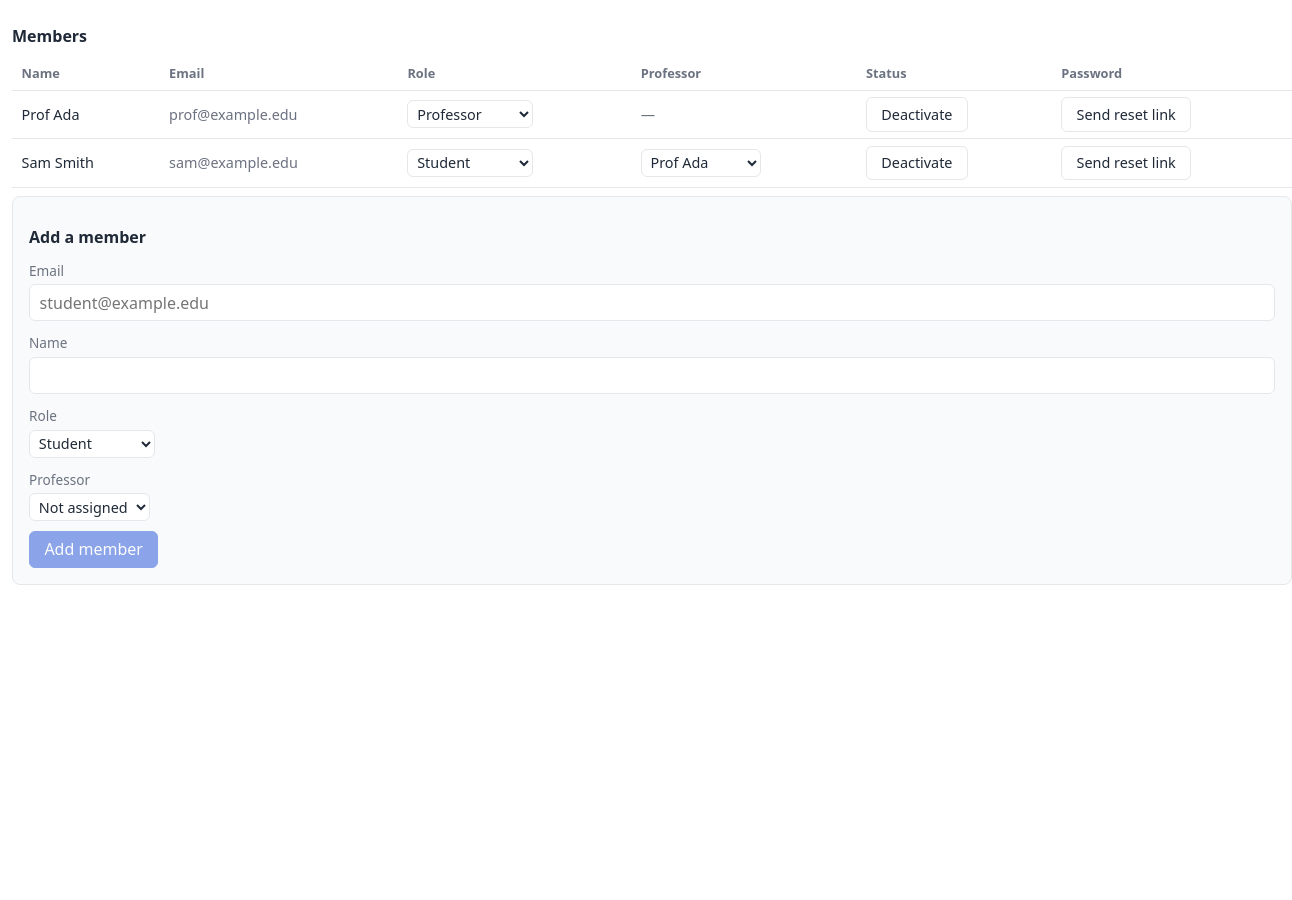
Test case: /org/:id — the members table › adds a member by email, name, role and professor — and says the mail went out
Expected: the text "prof@example.edu" is shown, x1=160 y1=90 x2=398 y2=139
Type "new@example.edu" into the field labelled "Email".
click(652, 303); type("new@example.edu")  # box x1=29 y1=284 x2=1275 y2=322
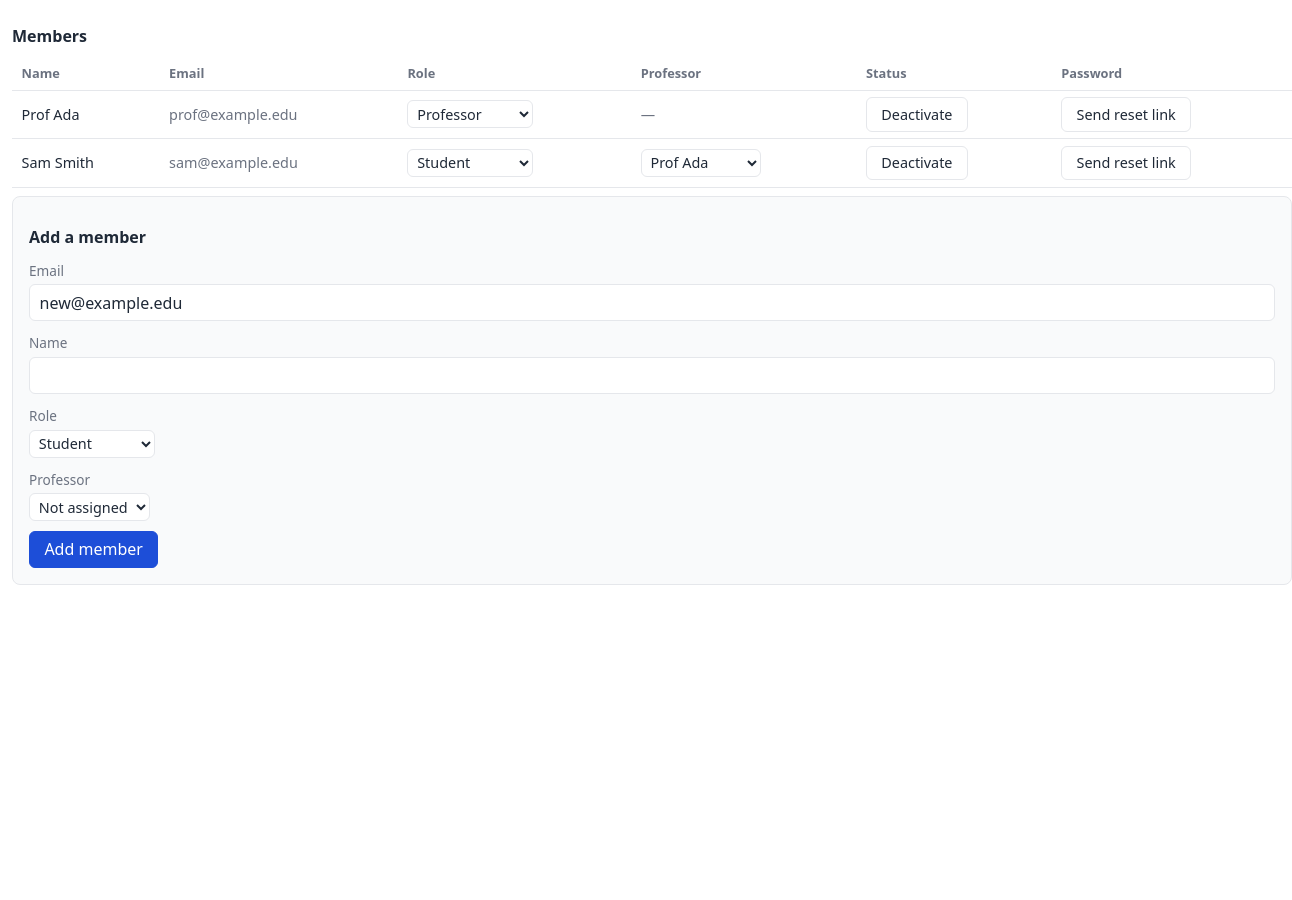
Type "Newcomer" into the field labelled "Name".
click(652, 376); type("Newcomer")  # box x1=29 y1=357 x2=1275 y2=394
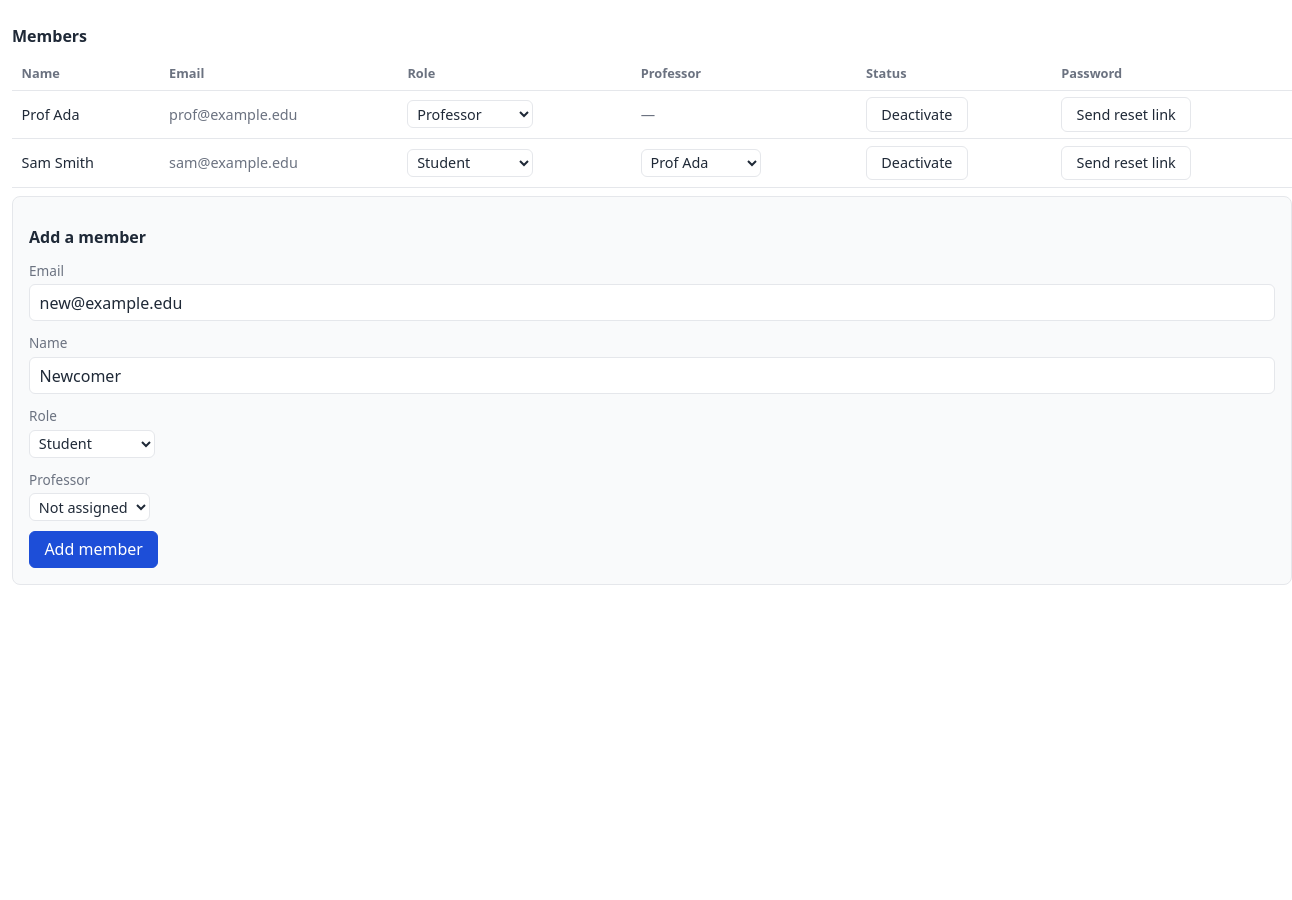
Select "Prof Ada" in the dropdown labelled "Professor" at (89, 507), box x1=29 y1=493 x2=150 y2=521
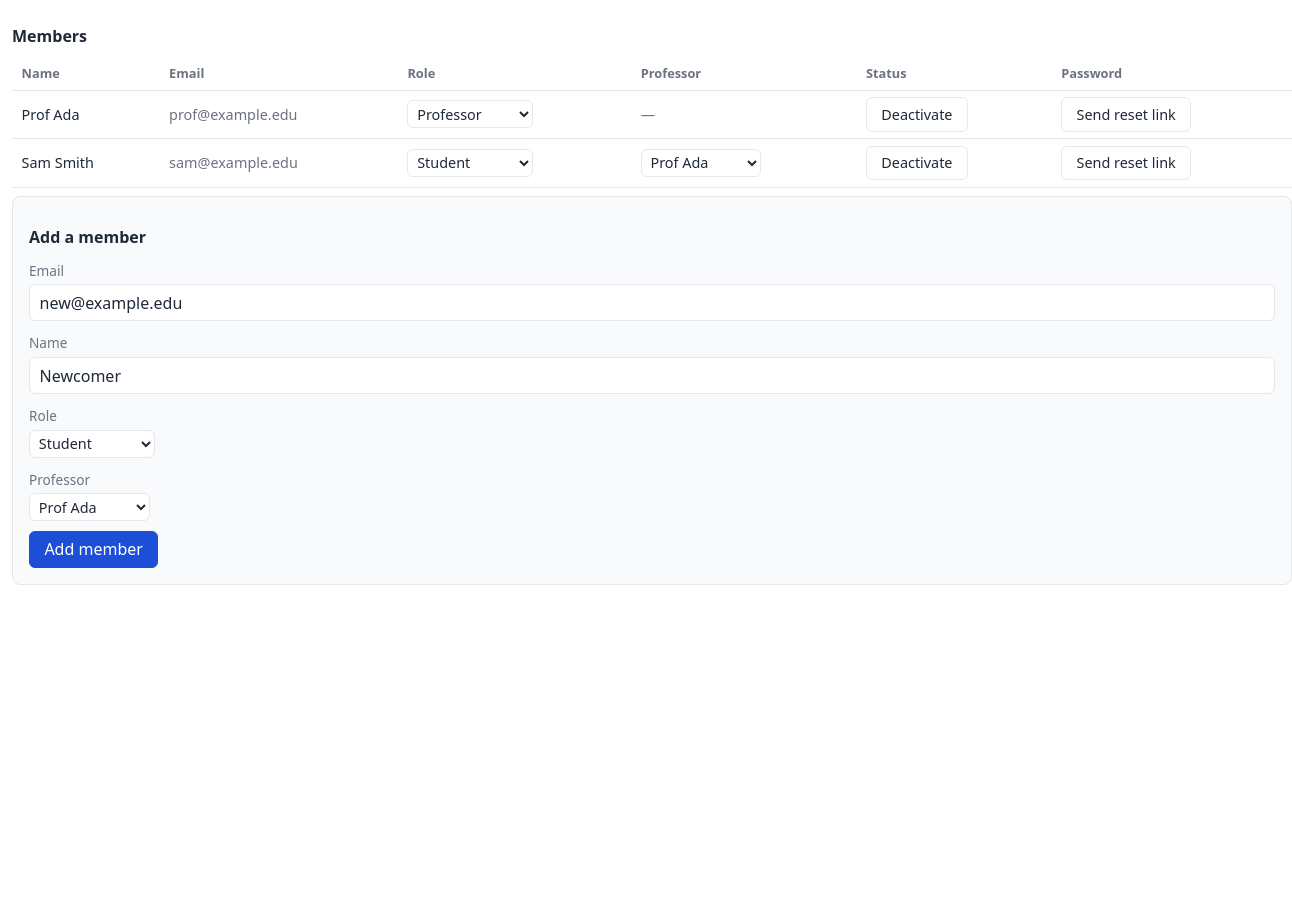
Click the button "Add member".
click(94, 549)  # box x1=29 y1=531 x2=158 y2=568
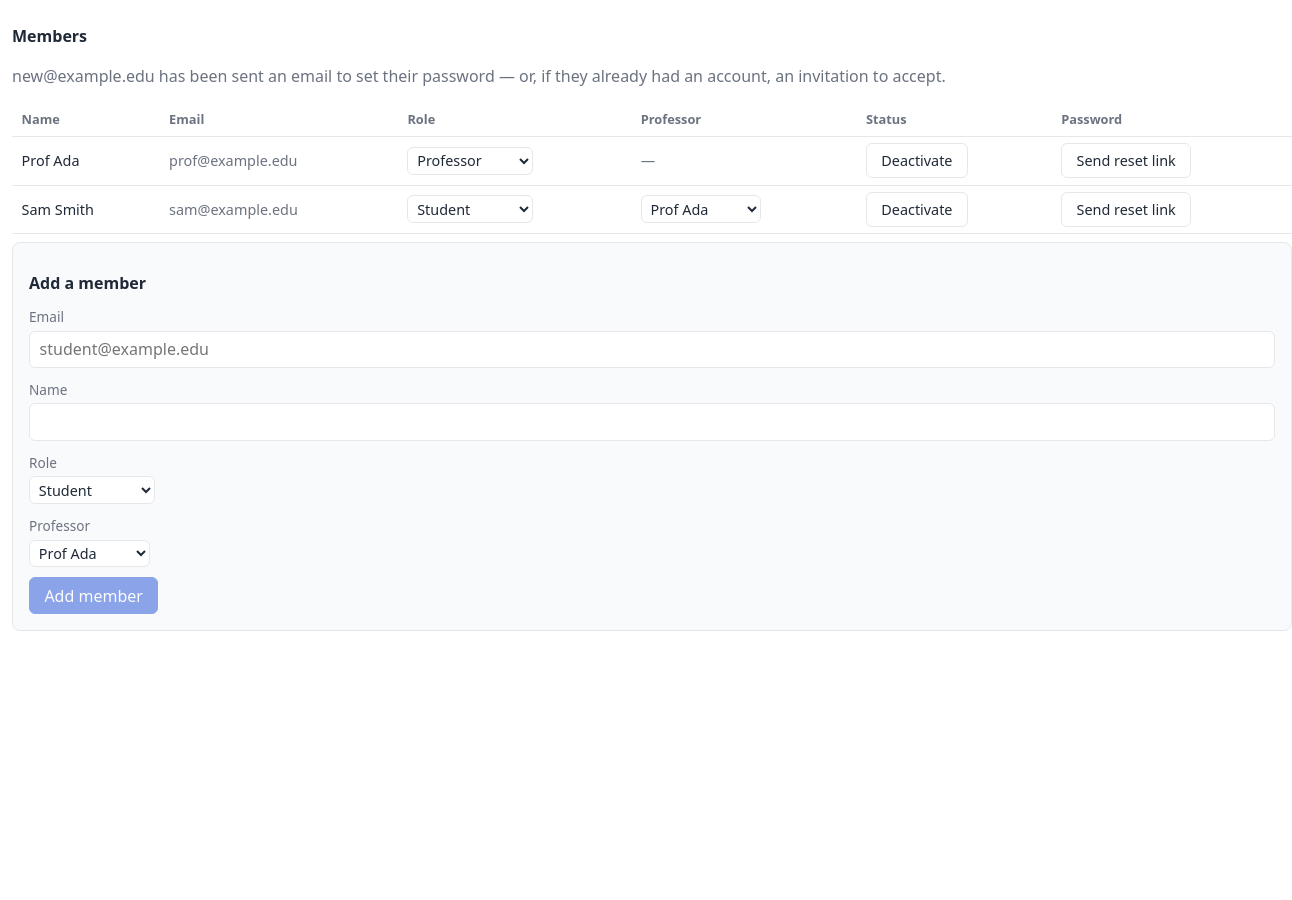
Expected: the text "new@example.edu has been sent an email" is shown, x1=12 y1=65 x2=946 y2=87
